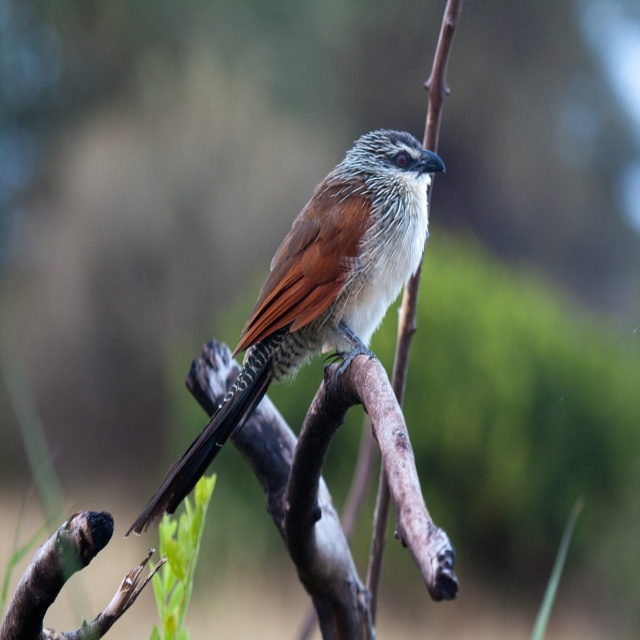Sparrow: (124, 133, 448, 539)
